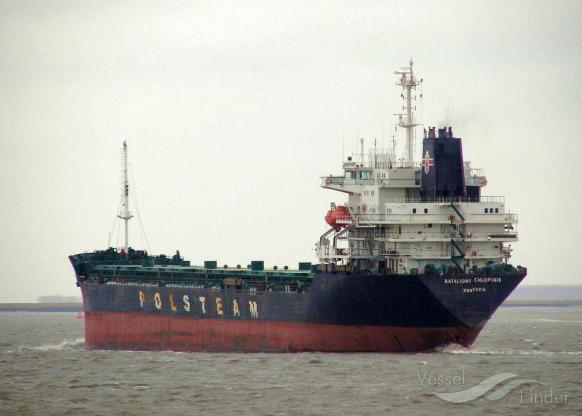OCR: (127, 288, 262, 320), (436, 276, 502, 298)
